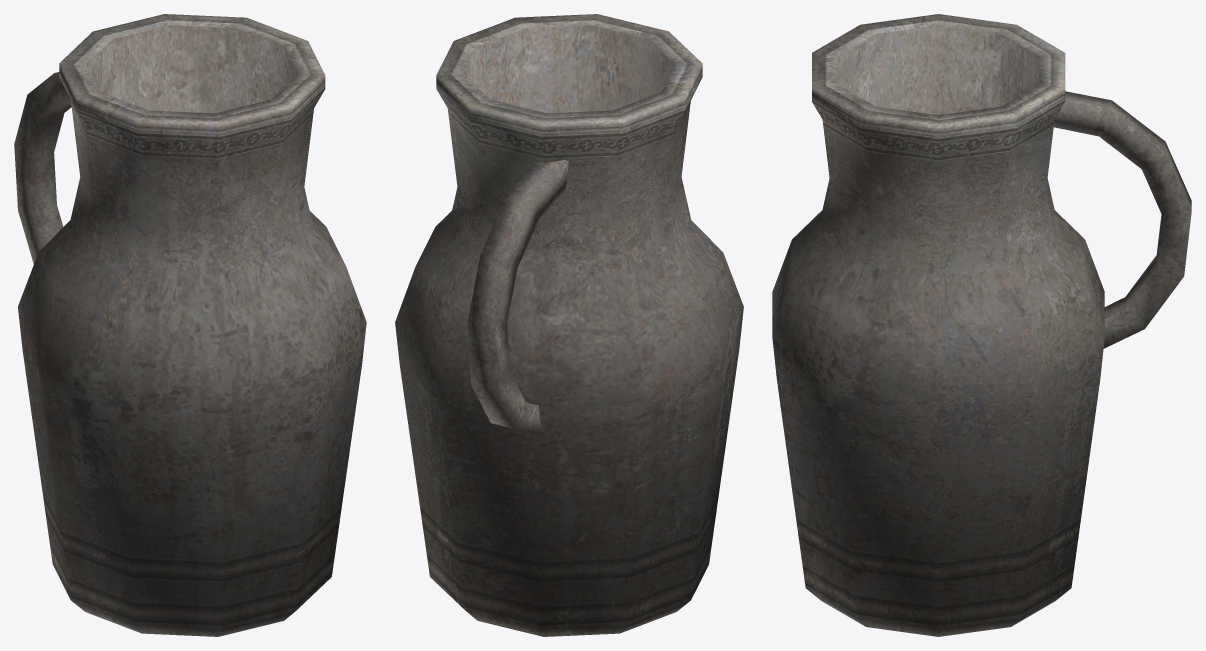
Rendered from jar1.fbx.
3 views of the same model, side by side, from view 1: azimuth 30°, elevation 25°; view 2: azimuth 150°, elevation 25°; view 3: azimuth 270°, elevation 25° (orthographic).
Parts seen in each view (by area): view 1: polySurface691; view 2: polySurface691; view 3: polySurface691.
Boxes of the visible parts, bbox=[...] form: polySurface691: bbox=[14, 14, 366, 636]; polySurface691: bbox=[395, 14, 743, 636]; polySurface691: bbox=[772, 14, 1191, 636].
Bounding box in the file's own units: 0.2674 × 0.4345 × 0.3207.
